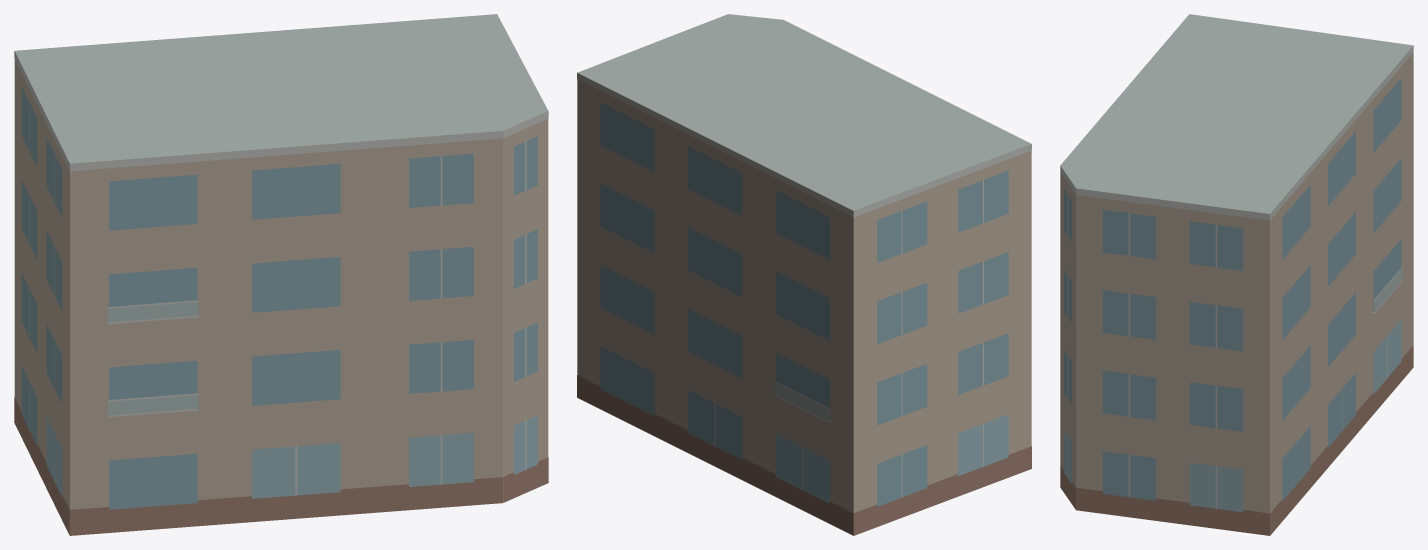
Rendered from survey-upis-32851177.glb.
3 renders of one model, left to right at view 1: azimuth 30°, elevation 25°; view 2: azimuth 150°, elevation 25°; view 3: azimuth 270°, elevation 25°, orthographic. The views are drawn at different scales.
Parts seen in each view (by area): view 1: survey-upis-32851177.tmp; view 2: survey-upis-32851177.tmp; view 3: survey-upis-32851177.tmp.
Part boxes in pixels (x1=…): survey-upis-32851177.tmp: x1=14, y1=14, x2=548, y2=535; survey-upis-32851177.tmp: x1=577, y1=14, x2=1031, y2=535; survey-upis-32851177.tmp: x1=1060, y1=14, x2=1413, y2=535.
Bounding box in the file's own units: 16 × 12 × 11.95.
